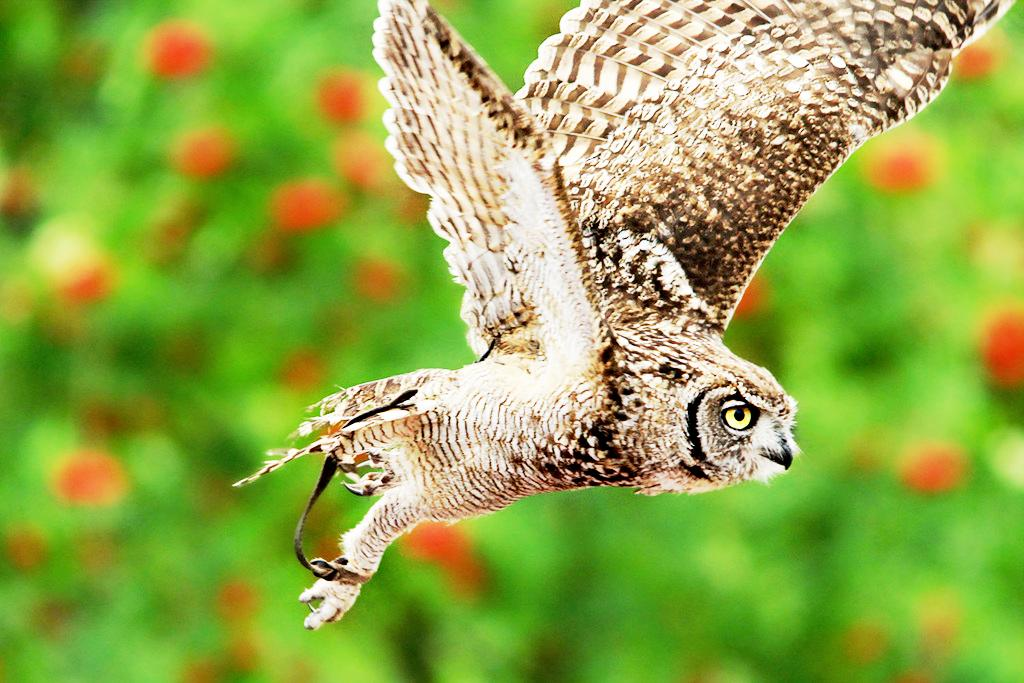Owl: (232, 0, 1016, 630)
